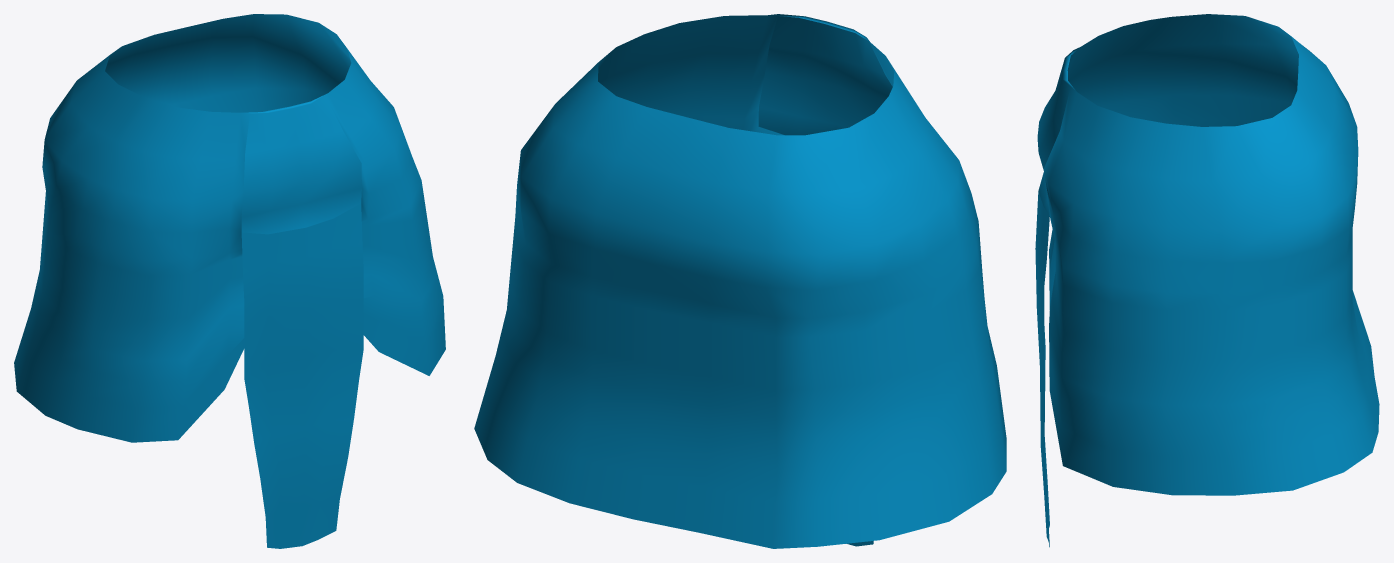
Rendered from PantsBIgger.fbx.
The picture shows the model from 3 angles, left to right: view 1: azimuth 30°, elevation 25°; view 2: azimuth 150°, elevation 25°; view 3: azimuth 270°, elevation 25°; orthographic projection. The views are drawn at different scales.
Parts seen in each view (by area): view 1: Pants; view 2: Pants; view 3: Pants.
Part boxes in pixels (left/top/right/bottom): Pants: left=14, top=14, right=445, bottom=548; Pants: left=474, top=14, right=1006, bottom=548; Pants: left=1035, top=14, right=1379, bottom=547.
Bounding box in the file's own units: 2.53 × 2.72 × 1.82.
